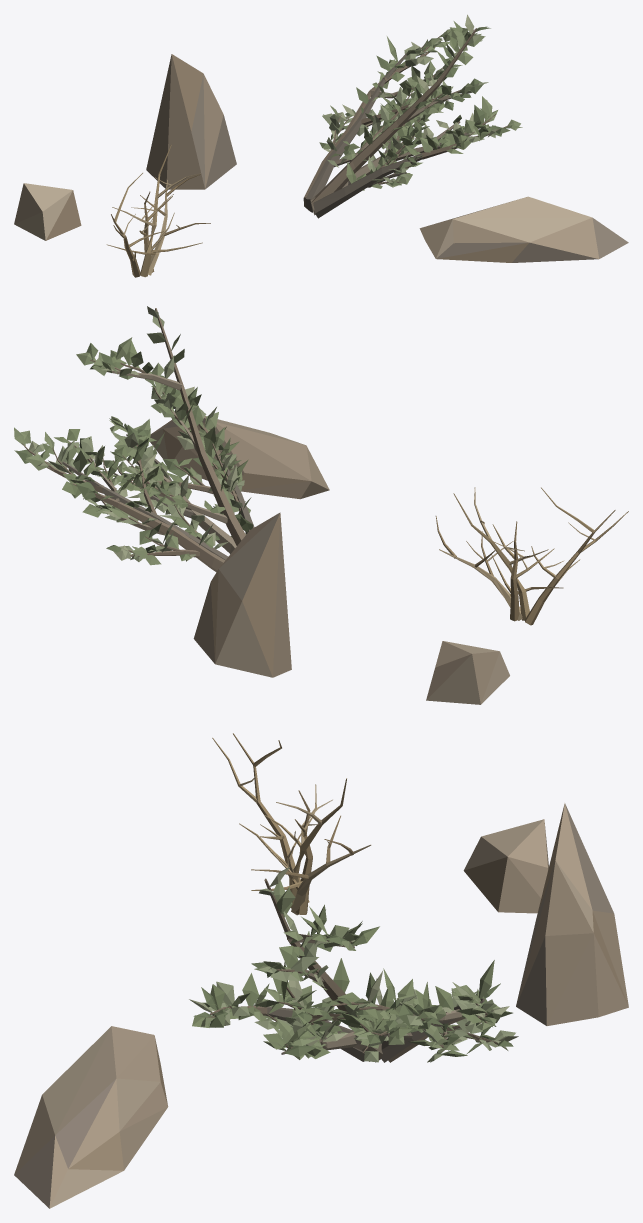
The picture shows the model from 3 angles, top to bottom: view 1: azimuth 30°, elevation 25°; view 2: azimuth 150°, elevation 25°; view 3: azimuth 270°, elevation 25°; orthographic projection. The views are drawn at different scales.
Visible parts, largest first — view 1: c03b; view 2: c03b; view 3: c03b.
Part boxes in pixels (x1,y1,x2,y2): c03b: (14, 14, 628, 277); c03b: (14, 306, 628, 704); c03b: (14, 733, 628, 1208).
Size of the model in its own units: 1.35 by 0.5368 by 1.04.
